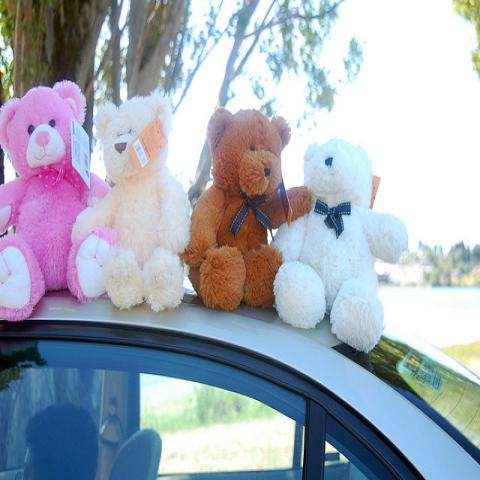car: (1, 286, 479, 479)
